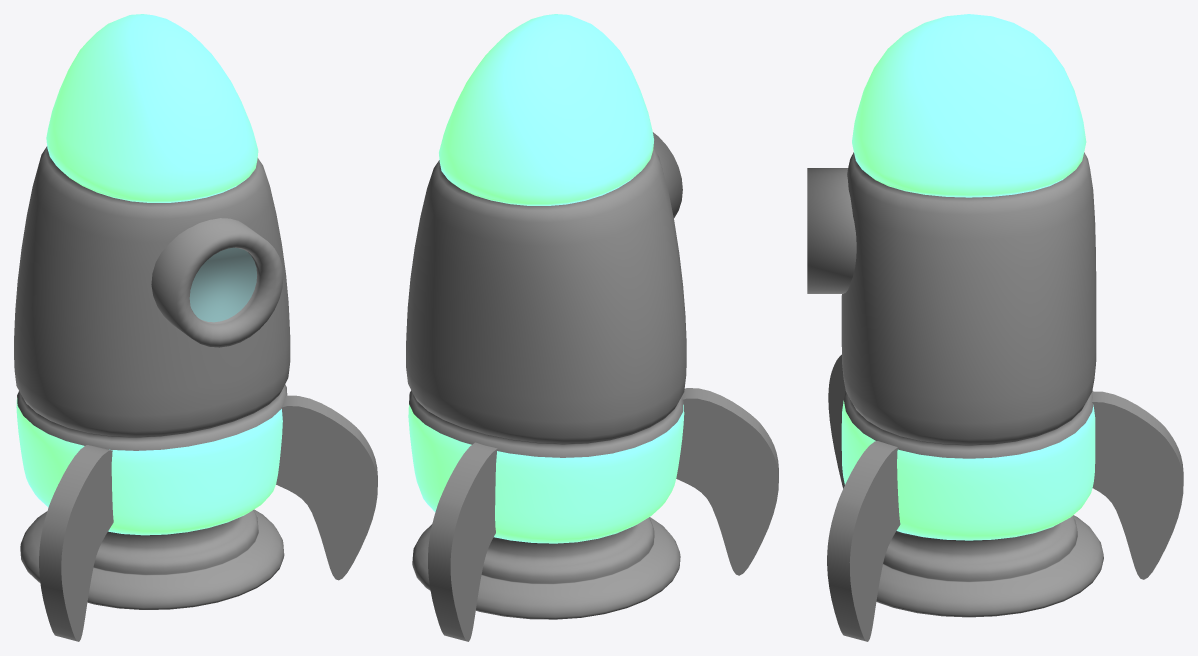
The model's file is rocket.fbx.
The picture shows the model from 3 angles, left to right: view 1: azimuth 30°, elevation 25°; view 2: azimuth 150°, elevation 25°; view 3: azimuth 270°, elevation 25°; orthographic projection.
Visible parts, largest first — view 1: Cube, Cylinder, BezierCircle.001, BezierCircle.003; view 2: Cube, BezierCircle.003, BezierCircle.002, Cylinder; view 3: Cube, BezierCircle.002, BezierCircle.001, Cylinder, BezierCircle.003.
Boxes of the visible parts, bbox=[...] form: Cube: bbox=[14, 14, 290, 609]; Cylinder: bbox=[151, 218, 283, 347]; BezierCircle.001: bbox=[276, 395, 377, 580]; BezierCircle.003: bbox=[39, 445, 113, 641]; Cube: bbox=[406, 14, 686, 619]; BezierCircle.003: bbox=[676, 388, 778, 575]; BezierCircle.002: bbox=[428, 442, 497, 641]; Cylinder: bbox=[653, 132, 682, 217]; Cube: bbox=[841, 14, 1103, 617]; BezierCircle.002: bbox=[1092, 391, 1183, 579]; BezierCircle.001: bbox=[827, 441, 900, 641]; Cylinder: bbox=[807, 168, 856, 293]; BezierCircle.003: bbox=[828, 354, 845, 488].
Bounding box in the file's own units: 280 × 265 × 431.
